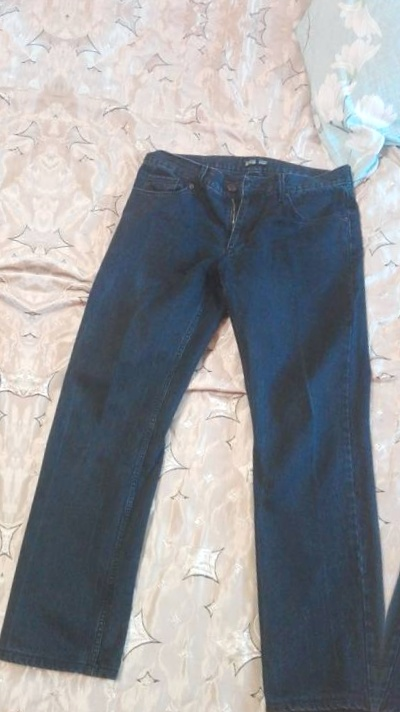Pants: (3, 119, 400, 712), (0, 74, 42, 678), (383, 164, 400, 712)
